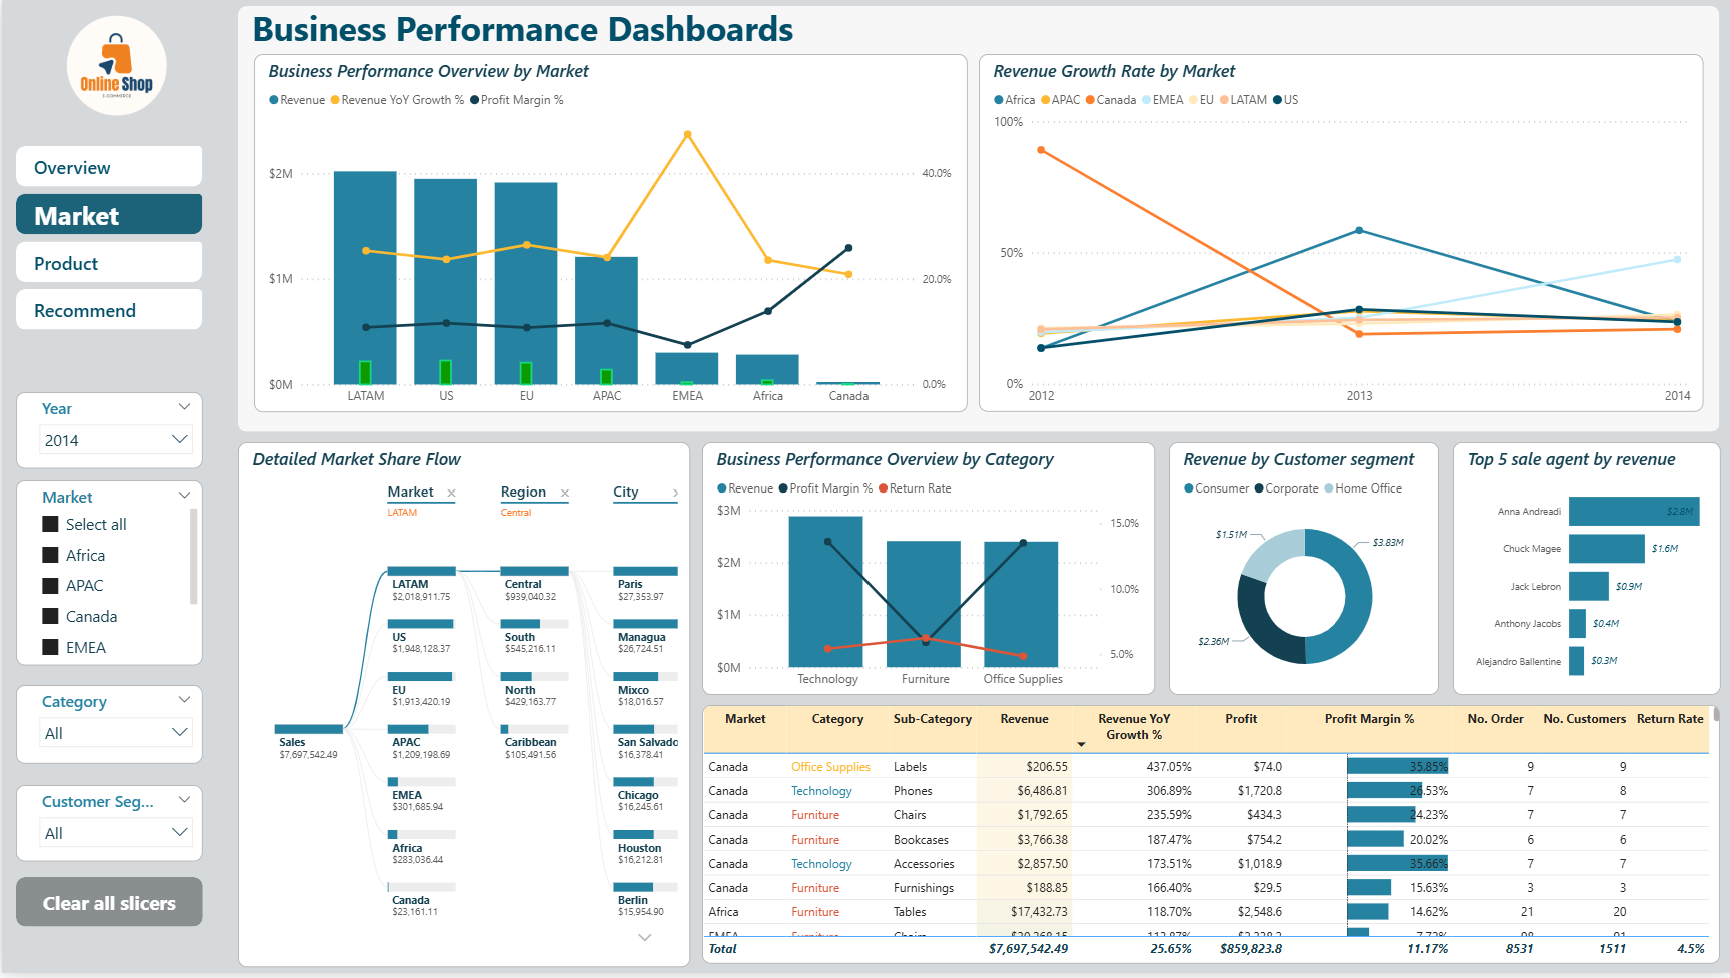

Layout of this report page (visuals, bound fields, positions):
{"tool":"powerbi","page":{"name":"Market","canvas":[1920,1080],"ordinal":1},"visuals":[{"type":"shape","box":[262.5,7.5,1645,473],"z":0},{"type":"slicer","fields":{"Values":["Dim_Date.Year"]},"box":[15,435,207.5,85],"z":1000},{"type":"slicer","fields":{"Values":["Dim_CityRegion.Market"]},"box":[15,532.5,207.5,205],"z":2000},{"type":"image","box":[16,8,224,128],"z":3000},{"type":"donutChart","title":"Revenue by Customer segment","fields":{"Y":["Measure.Sales"],"Category":["Dim_Customer_Segment.Segment"]},"box":[1295.1,490,300,280],"z":4000},{"type":"lineClusteredColumnComboChart","title":"Business Performance Overview by Category","fields":{"Category":["Dim_Sub_Category.Category"],"Y":["Measure.Sales"],"Y2":["Measure.Profit Margin %","Measure.Return Rate"]},"box":[777.5,490,502.5,280],"z":5000},{"type":"lineClusteredColumnComboChart","title":"Business Performance Overview by Market","fields":{"Category":["Dim_CityRegion.Market"],"Y":["Measure.Sales"],"Y2":["Measure.Sales YoY Growth %","Measure.Profit Margin %"]},"box":[280,60,792,398],"z":6000},{"type":"lineChart","title":"Revenue Growth Rate by Market","fields":{"Category":["Dim_Date.Year"],"Series":["Dim_CityRegion.Market"],"Y":["Measure.Sales YoY Growth %"]},"box":[1085,60,805,397.5],"z":7000},{"type":"tableEx","title":"Business Performance Overview by Category","fields":{"Values":["Dim_CityRegion.Market","Dim_Sub_Category.Category","Dim_Sub_Category.Sub-Category","Measure.Sales","Measure.Sales YoY Growth %","Measure.Profit","Measure.Profit Margin %","Measure.No. Order","Measure.Total Customers","Measure.Return Rate"]},"box":[777.5,781.2,1130,287.5],"z":8000},{"type":"decompositionTreeVisual","title":"Detailed Market Share Flow","fields":{"Analyze":["Measure.Sales"],"ExplainBy":["Dim_CityRegion.Market","Dim_CityRegion.Region","Fact_Orders.City"]},"box":[262.5,490,502.5,582.5],"z":9000},{"type":"barChart","title":"Top 5 sale agent by revenue","fields":{"Category":["Dim_People.Person"],"Y":["Measure.Sales"]},"box":[1610,490,297.5,280],"z":10000},{"type":"pageNavigator","box":[15,162.5,207.5,257.5],"z":11000},{"type":"actionButton","box":[15,972.5,207.5,55],"z":12000},{"type":"slicer","fields":{"Values":["Dim_Sub_Category.Category"]},"box":[15,760,207.5,87.5],"z":13000},{"type":"slicer","fields":{"Values":["Dim_Customer_Segment.Segment"]},"box":[15,870,207.5,85],"z":14000},{"type":"textbox","box":[257.5,0,641.3,69.1],"z":15000}]}

Visuals, with their boxes on the page's 1920x1080 design canvas (x1, y1, x2, y2). These are canvas units, not pixel positions in the 1730x978 screenshot, which may show the page scaled, cropped or inside an application window:
shape: bbox(262, 8, 1908, 480)
slicer - Dim_Date.Year: bbox(15, 435, 222, 520)
slicer - Dim_CityRegion.Market: bbox(15, 532, 222, 738)
image: bbox(16, 8, 240, 136)
"Revenue by Customer segment" donutChart: bbox(1295, 490, 1595, 770)
"Business Performance Overview by Category" lineClusteredColumnComboChart: bbox(778, 490, 1280, 770)
"Business Performance Overview by Market" lineClusteredColumnComboChart: bbox(280, 60, 1072, 458)
"Revenue Growth Rate by Market" lineChart: bbox(1085, 60, 1890, 458)
"Business Performance Overview by Category" tableEx: bbox(778, 781, 1908, 1069)
"Detailed Market Share Flow" decompositionTreeVisual: bbox(262, 490, 765, 1072)
"Top 5 sale agent by revenue" barChart: bbox(1610, 490, 1908, 770)
pageNavigator: bbox(15, 162, 222, 420)
actionButton: bbox(15, 972, 222, 1028)
slicer - Dim_Sub_Category.Category: bbox(15, 760, 222, 848)
slicer - Dim_Customer_Segment.Segment: bbox(15, 870, 222, 955)
textbox: bbox(258, 0, 899, 69)
